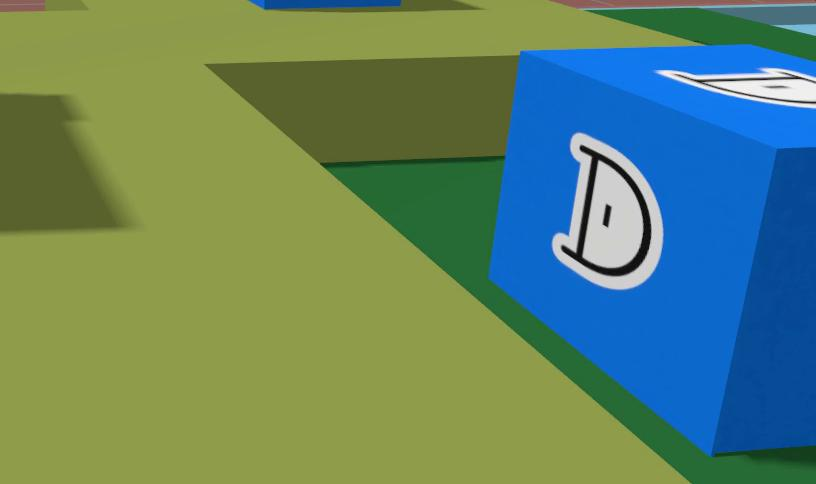KFS_REAL: (489, 45, 815, 454), (551, 132, 663, 289), (658, 68, 815, 107), (251, 0, 400, 8)
